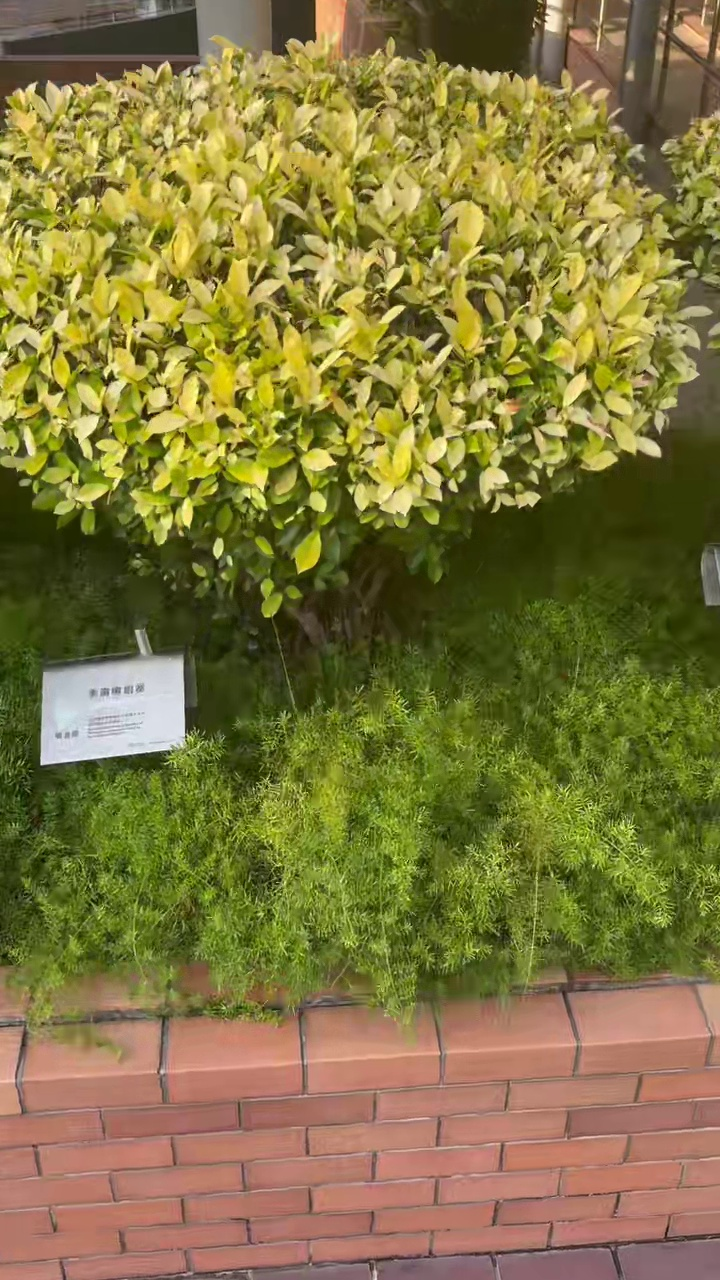Golden-leaves Fig: (0, 42, 698, 617)
